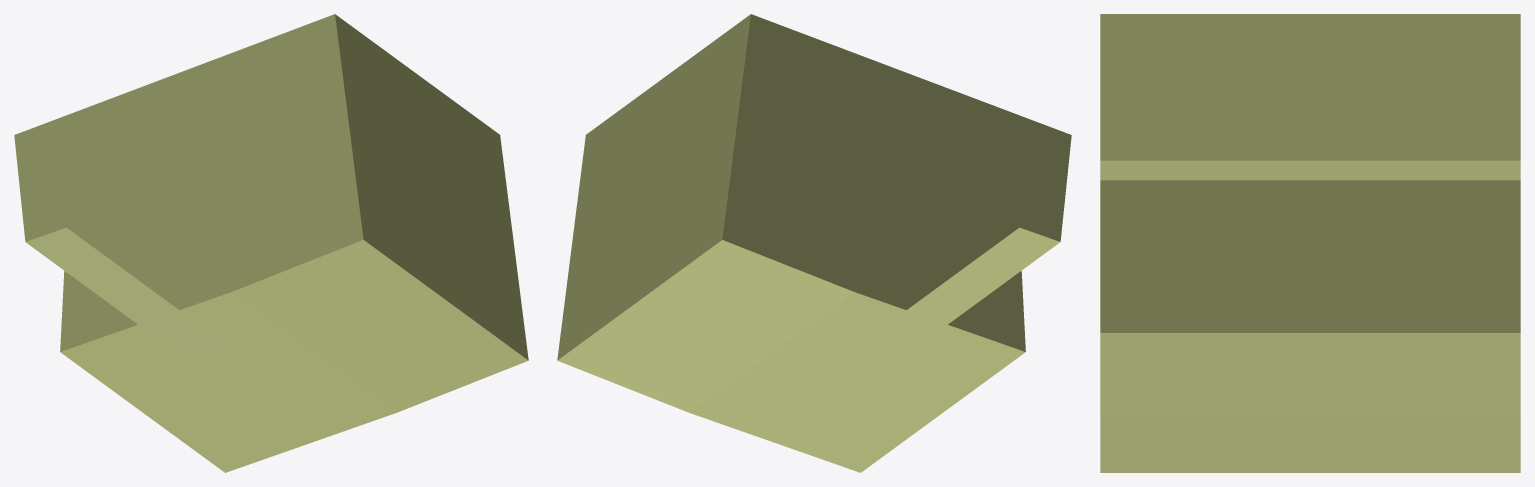
3 views of the same model, side by side, from view 1: azimuth 30°, elevation 25°; view 2: azimuth 150°, elevation 25°; view 3: azimuth 270°, elevation 25° (orthographic). The views are drawn at different scales.
Parts seen in each view (by area): view 1: 0_3_0_1_1_2_1_3_2_3; view 2: 0_3_0_1_1_2_1_3_2_3; view 3: 0_3_0_1_1_2_1_3_2_3.
Part boxes in pixels (left/top/right/bottom): 0_3_0_1_1_2_1_3_2_3: left=14, top=14, right=528, bottom=472; 0_3_0_1_1_2_1_3_2_3: left=557, top=14, right=1071, bottom=472; 0_3_0_1_1_2_1_3_2_3: left=1100, top=14, right=1520, bottom=472.
Bounding box in the file's own units: 10.99 × 8.15 × 9.
